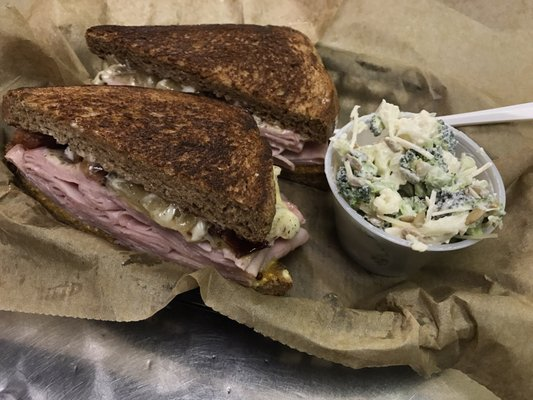soup: (0, 84, 310, 299), (84, 22, 340, 160), (315, 0, 533, 118)
sushi: (324, 99, 511, 278)
